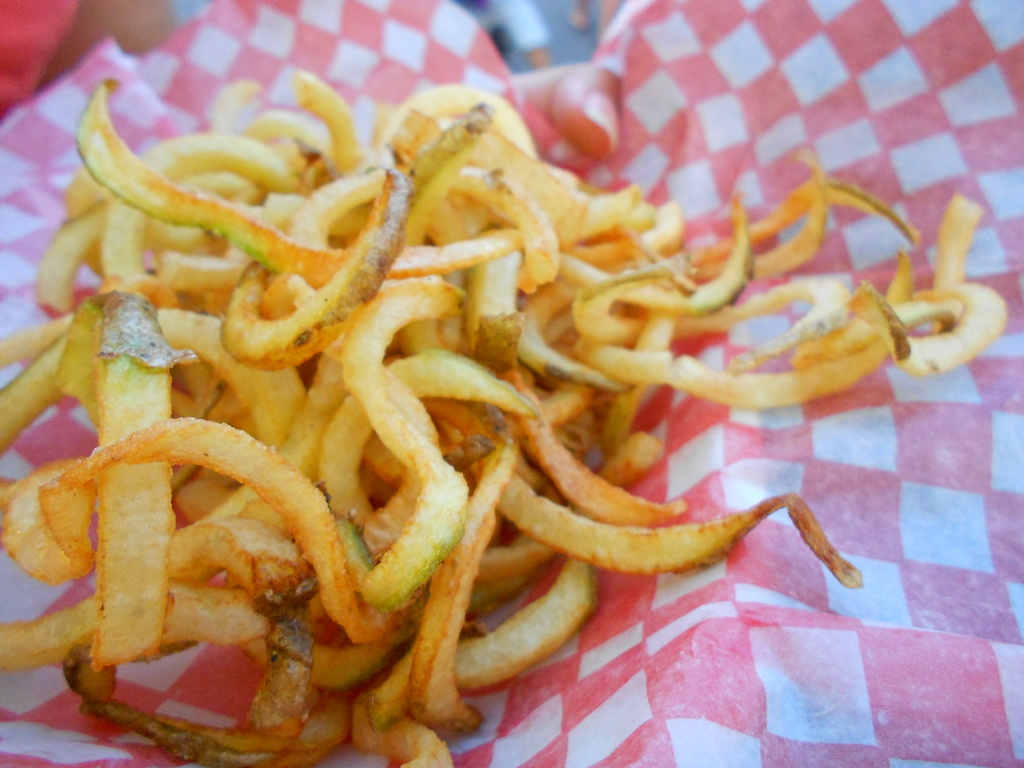French fries: (28, 63, 881, 728)
